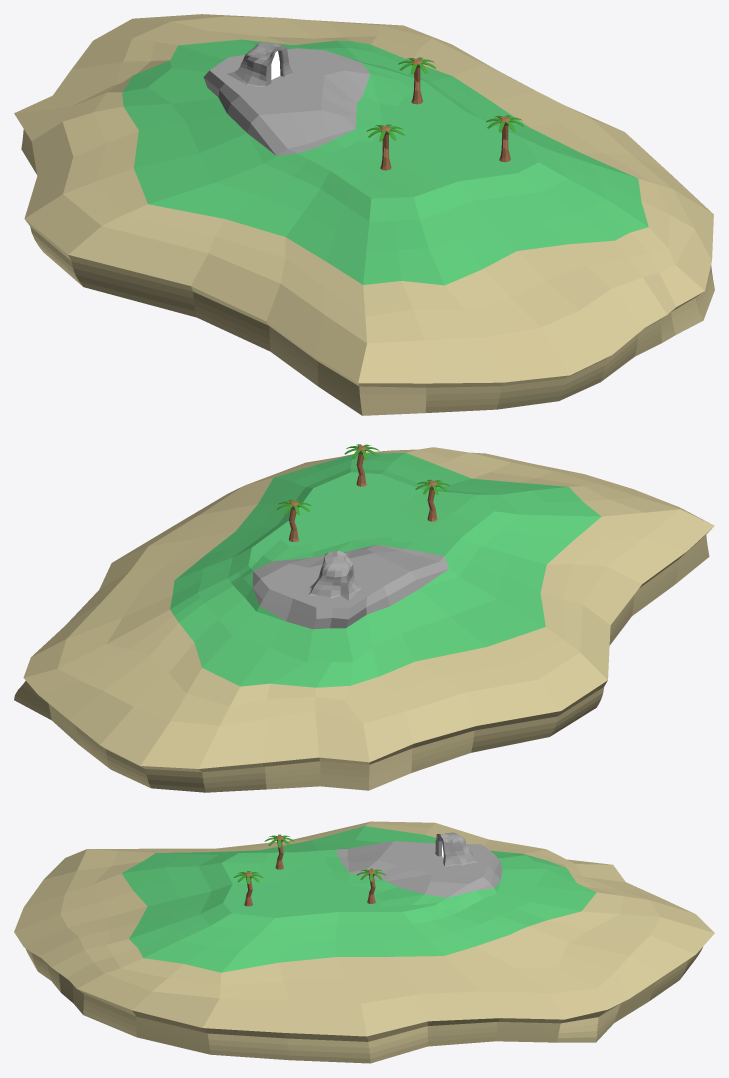
The model's file is island4.gltf.
3 views of the same model, one above another, from view 1: azimuth 30°, elevation 25°; view 2: azimuth 150°, elevation 25°; view 3: azimuth 270°, elevation 25° (orthographic). The views are drawn at different scales.
Visible parts, largest first — view 1: Cube, Cube.001; view 2: Cube, Cube.001; view 3: Cube, Cube.001.
Part boxes in pixels (x1,y1,x2,y2): Cube: (14,14,714,415); Cube.001: (227,42,293,86); Cube: (14,447,714,792); Cube.001: (308,551,361,600); Cube: (14,821,714,1063); Cube.001: (435,832,477,866).
Bounding box in the file's own units: 21.87 × 5.98 × 31.8.
